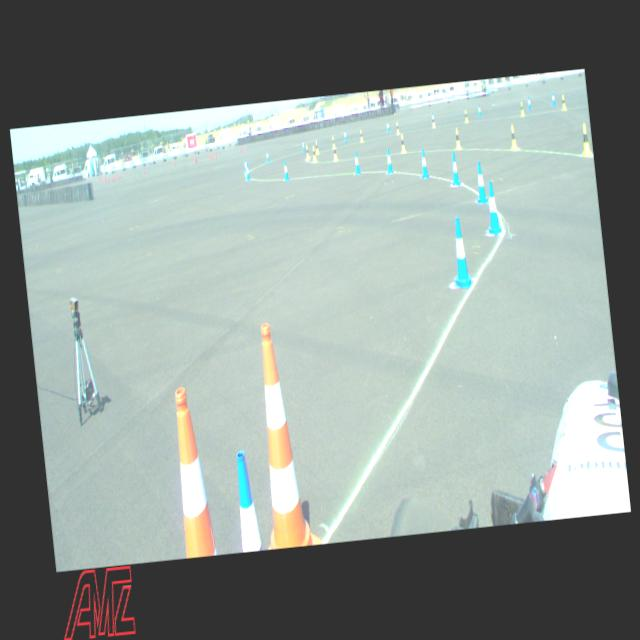blue_cone: (232, 449, 262, 552), (446, 216, 474, 289), (482, 180, 502, 234), (474, 161, 488, 204), (448, 151, 462, 186), (418, 148, 429, 178), (384, 148, 393, 173), (352, 150, 360, 174), (282, 160, 290, 180), (244, 162, 250, 180), (550, 92, 556, 105), (526, 96, 532, 109), (476, 104, 482, 115), (243, 158, 247, 173), (265, 150, 269, 162), (301, 140, 305, 151), (343, 130, 347, 141), (386, 121, 390, 132), (432, 112, 434, 123)
large_orange_cone: (244, 320, 322, 548), (168, 385, 218, 558)
orange_cone: (100, 178, 101, 182)
yellow_cone: (580, 123, 592, 156), (508, 124, 518, 150), (452, 127, 460, 149), (310, 145, 318, 161), (399, 134, 406, 152), (560, 94, 566, 110), (332, 144, 338, 160), (305, 144, 310, 160), (519, 101, 524, 116), (430, 116, 436, 127), (314, 140, 319, 153), (464, 109, 468, 122), (396, 122, 400, 134), (332, 136, 336, 148), (359, 130, 363, 142)
